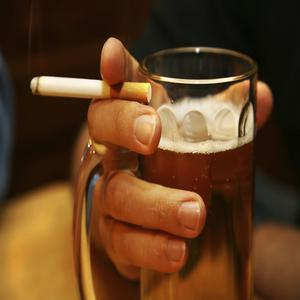cigarette: (31, 75, 152, 103)
